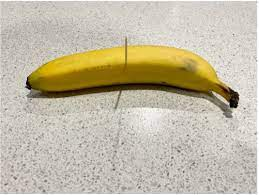Banana: (23, 39, 244, 113)
